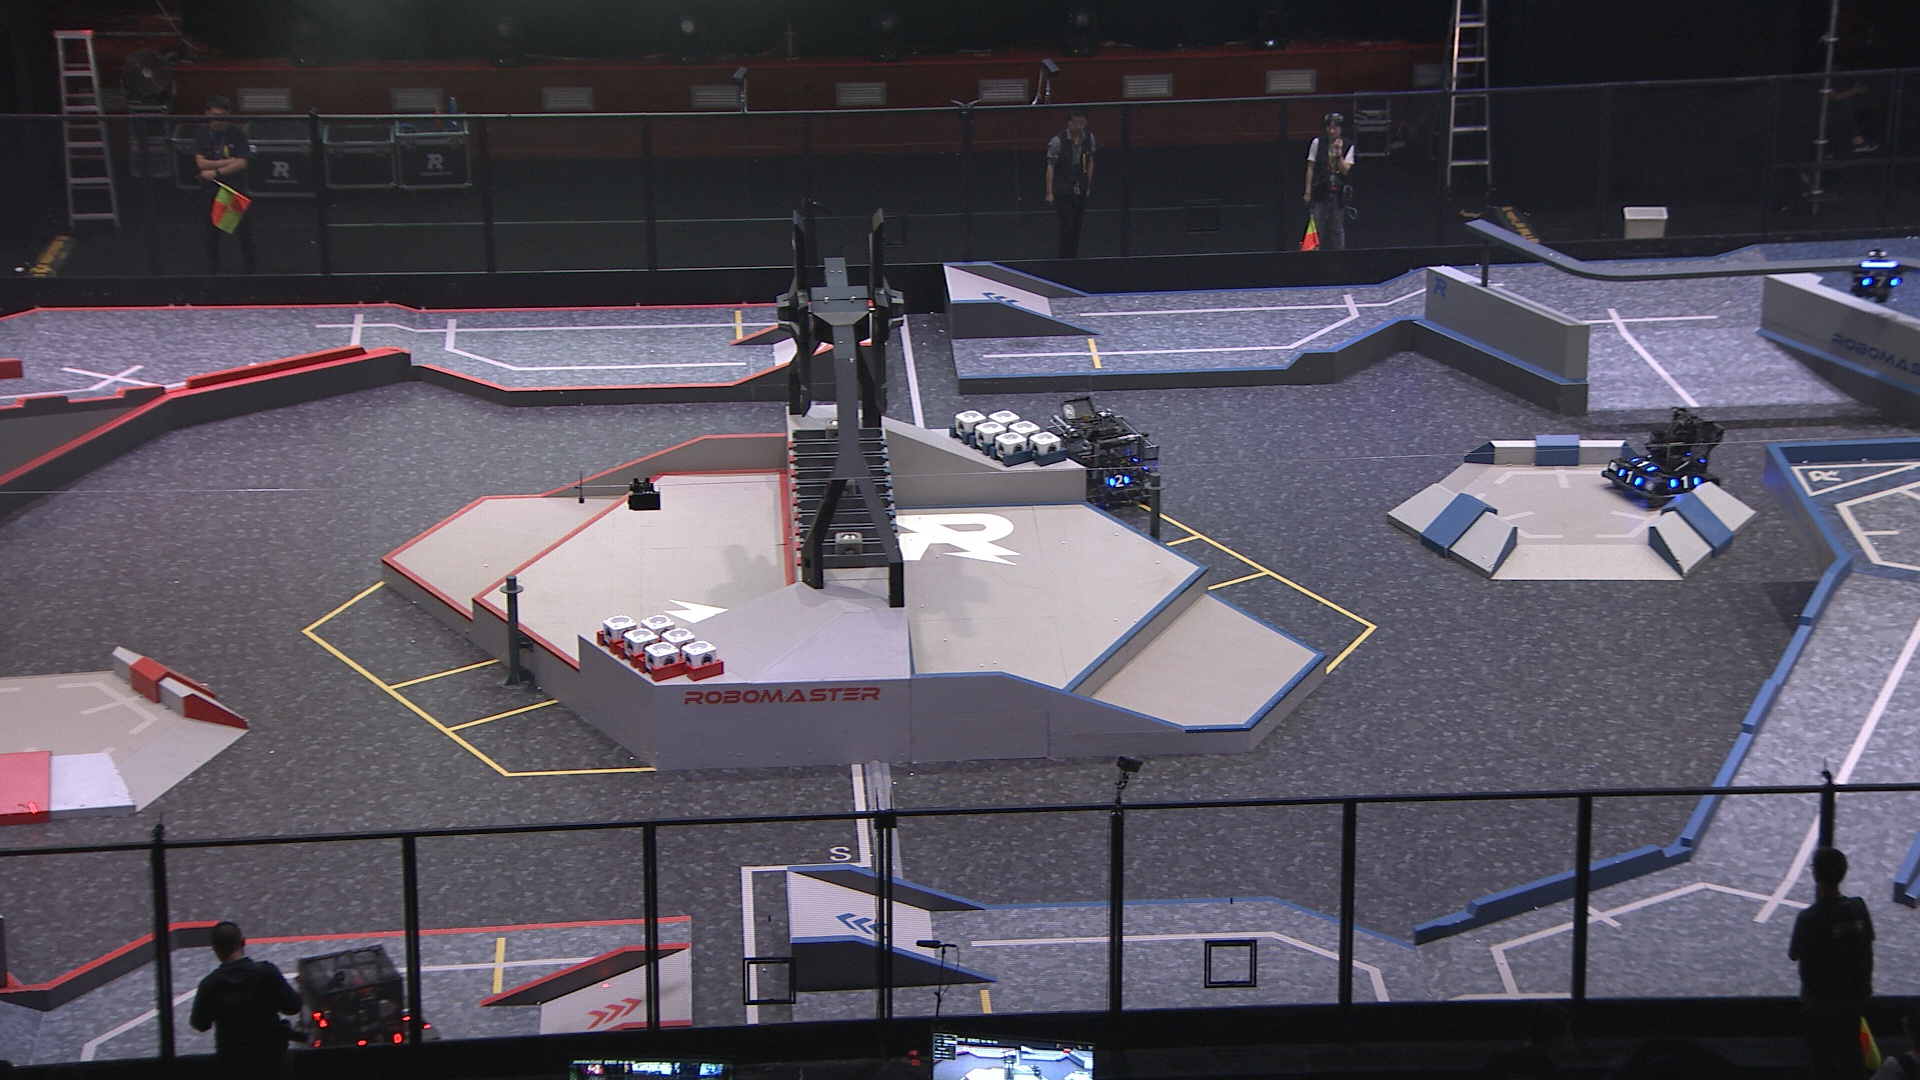armor: (356, 1027, 405, 1048), (1861, 273, 1899, 291), (1618, 465, 1644, 488), (1669, 472, 1700, 489), (1633, 455, 1659, 473), (1106, 472, 1130, 491), (301, 1029, 320, 1048)
car: (286, 945, 414, 1063), (1039, 396, 1159, 512), (1598, 406, 1724, 514)
watcher: (1850, 248, 1902, 306)
